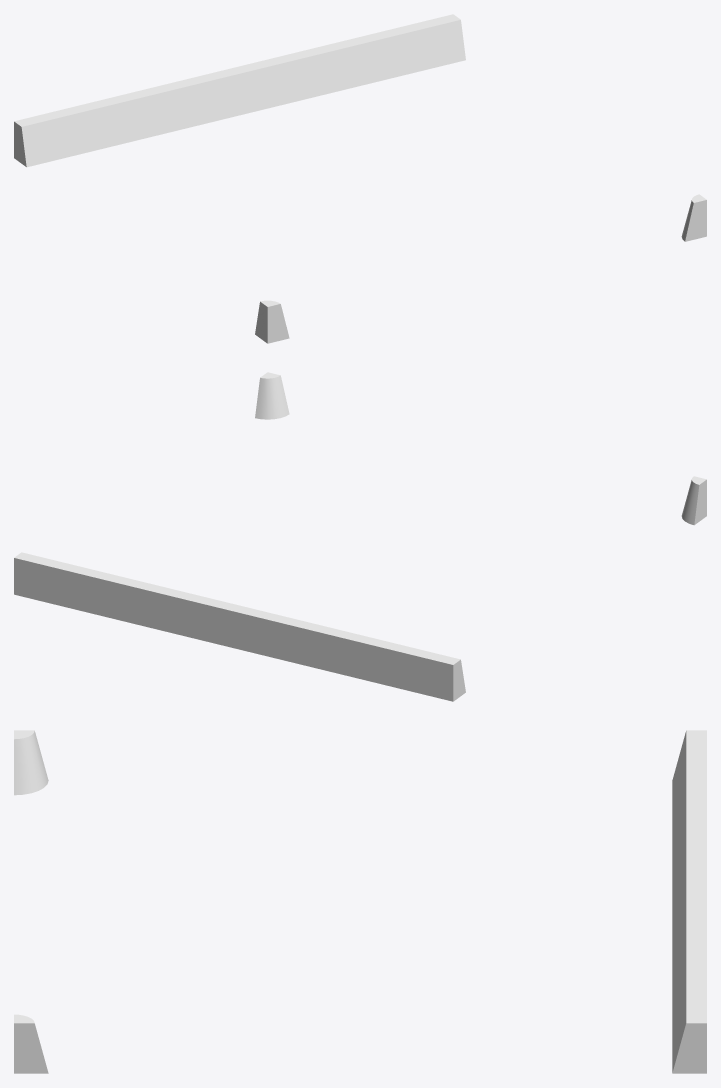
The model's file is kenney-city-roads-road-intersection-barrier.glb.
The picture shows the model from 3 angles, top to bottom: view 1: azimuth 30°, elevation 25°; view 2: azimuth 150°, elevation 25°; view 3: azimuth 270°, elevation 25°; orthographic projection. The views are drawn at different scales.
Parts seen in each view (by area): view 1: road-intersection-barrier; view 2: road-intersection-barrier; view 3: road-intersection-barrier.
Part boxes in pixels (x1,y1,x2,y2): road-intersection-barrier: [14, 14, 706, 343]; road-intersection-barrier: [14, 372, 706, 701]; road-intersection-barrier: [14, 730, 706, 1073].
Size of the model in its own units: 1 by 0.08 by 1.
1 material, 1 textured.
